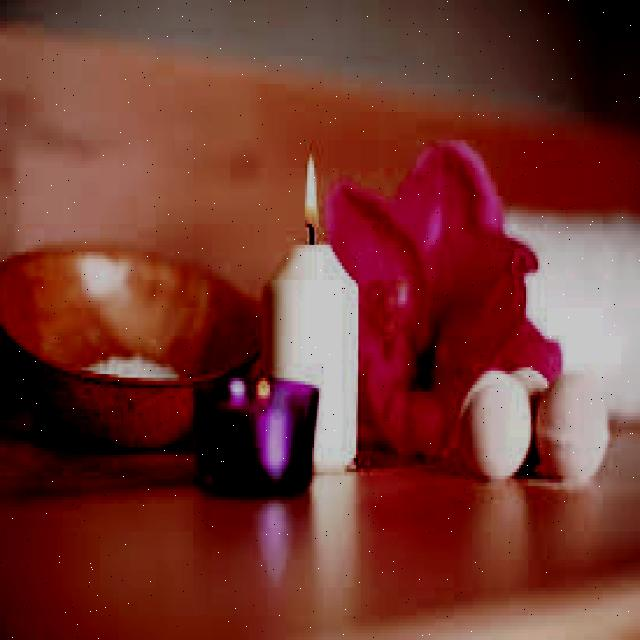api: (292, 145, 327, 239)
